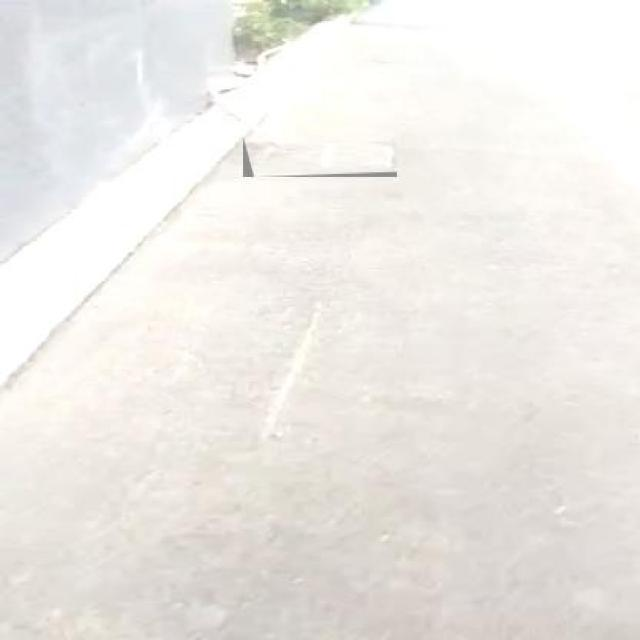Manhole: (243, 135, 397, 177)
